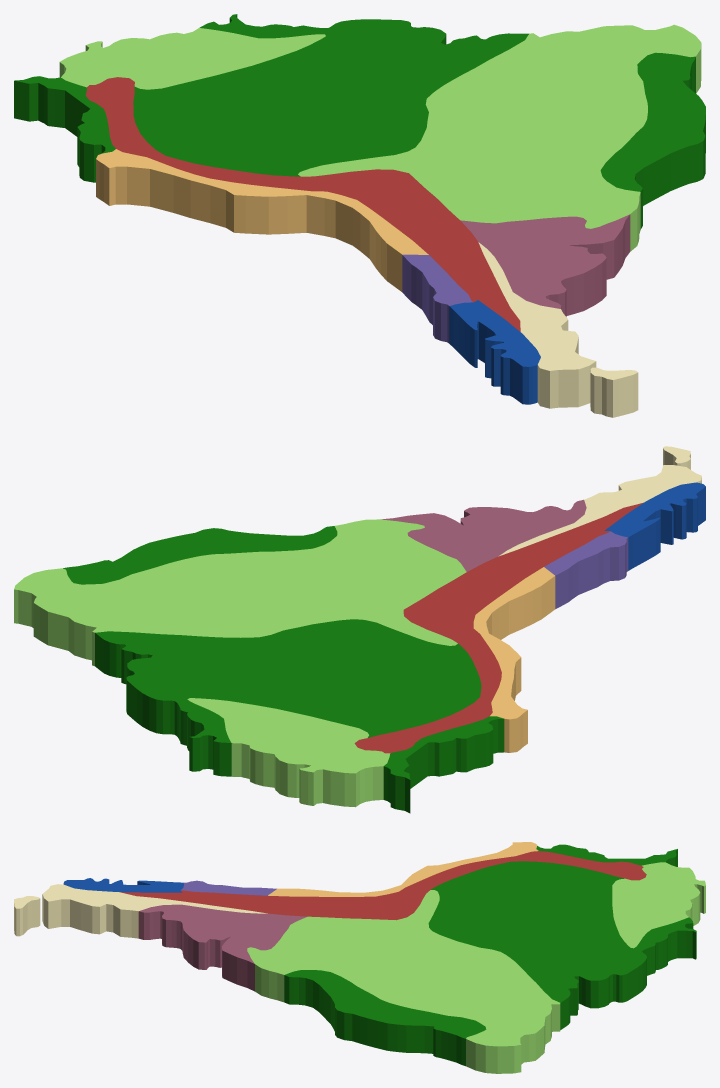
File: SouthAmericaWeather.glb
3 renders of one model, top to bottom at view 1: azimuth 30°, elevation 25°; view 2: azimuth 150°, elevation 25°; view 3: azimuth 270°, elevation 25°, orthographic. The views are drawn at different scales.
Parts seen in each view (by area): view 1: 热带雨林气候, 热带草原气候, 热带沙漠气候, 高原山地气候, 亚热带季风气候, 温带大陆性气候, 温带海洋性气候, 地中海气候; view 2: 热带草原气候, 热带雨林气候, 高原山地气候, 亚热带季风气候, 热带沙漠气候, 温带海洋性气候, 地中海气候, 温带大陆性气候; view 3: 热带雨林气候, 热带草原气候, 高原山地气候, 亚热带季风气候, 温带大陆性气候, 热带沙漠气候, 温带海洋性气候, 地中海气候.
Boxes of the visible parts, x1,y1,x2,y2 form: 热带雨林气候: (14,14,705,229); 热带草原气候: (59,24,701,251); 热带沙漠气候: (96,149,428,291); 高原山地气候: (85,77,520,331); 亚热带季风气候: (460,214,630,316); 温带大陆性气候: (478,242,638,417); 温带海洋性气候: (449,300,540,404); 地中海气候: (402,254,472,343); 热带草原气候: (14,519,466,807); 热带雨林气候: (63,526,504,813); 高原山地气候: (354,502,643,753); 亚热带季风气候: (381,499,586,571); 热带沙漠气候: (473,567,555,752); 温带海洋性气候: (604,482,705,570); 地中海气候: (544,531,628,608); 温带大陆性气候: (498,446,701,556); 热带雨林气候: (284,844,696,1066); 热带草原气候: (247,862,705,1073); 高原山地气候: (119,851,646,920); 亚热带季风气候: (138,904,306,991); 温带大陆性气候: (14,884,267,938); 热带沙漠气候: (268,842,538,896); 温带海洋性气候: (63,878,183,892); 地中海气候: (181,880,276,895).
Size of the model in its own units: 11.26 by 0.7071 by 16.11.
